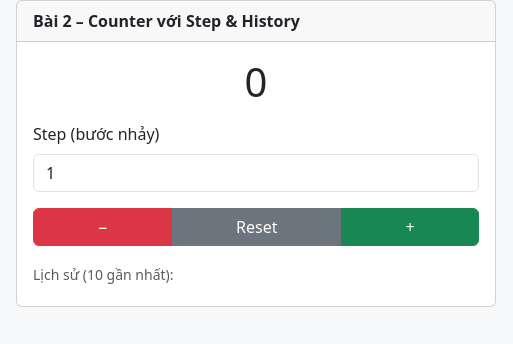
Test case: Bài 2 – Counter với Step & History › ✅ Task 2+5 – SET_STEP › step 3: tăng 2 lần → 6
Replace the text in the number field with test id "step-input" with "3" at (256, 173), box [33,154,479,192]
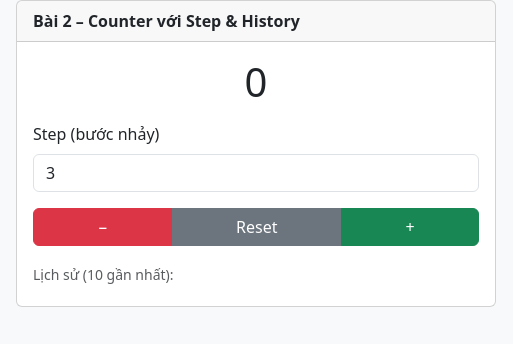
Click the button with test id "btn-increment" at (410, 227), box [341,208,479,246]
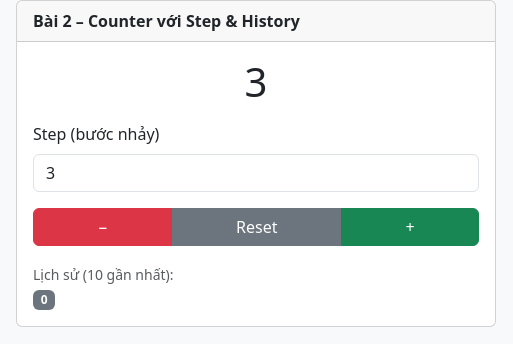
Click the button with test id "btn-increment" at (410, 227), box [341,208,479,246]
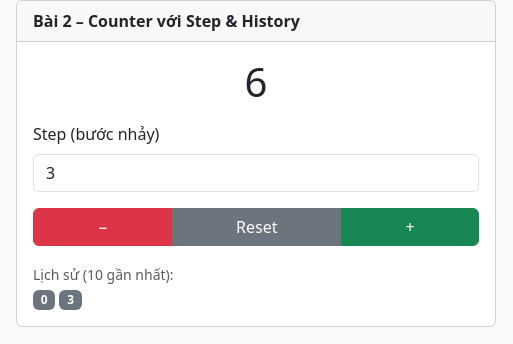
Check: the heading with test id "count-display" reads "6", box [244,54,267,109]
